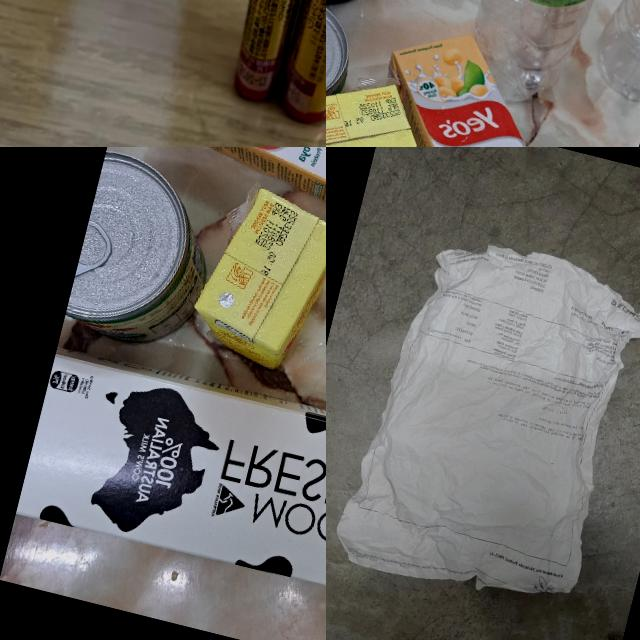aba de lata: (72, 216, 120, 293)
bateria: (210, 0, 326, 113)
caixinha: (15, 346, 326, 624), (344, 16, 592, 147), (185, 178, 326, 375), (133, 147, 326, 227), (326, 58, 448, 147), (326, 61, 430, 147)
garrafa plástica: (462, 0, 609, 112), (587, 0, 640, 106)
lata: (62, 150, 226, 354)
papel: (326, 220, 640, 623)
